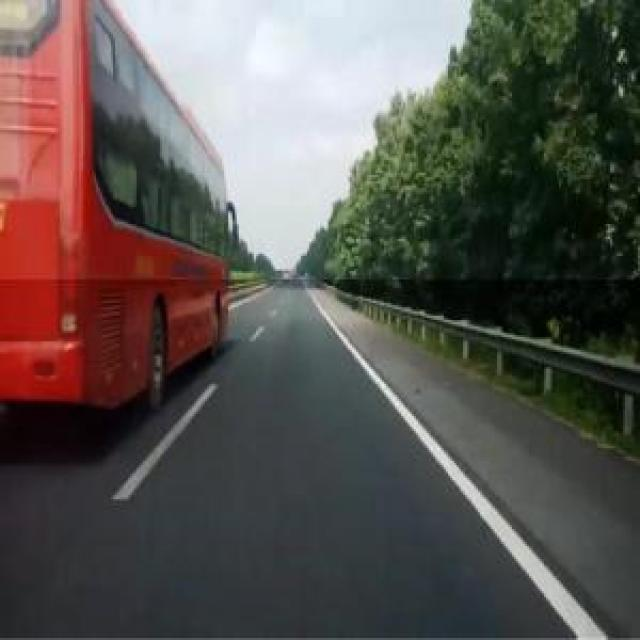clear-road: (0, 281, 640, 638)
